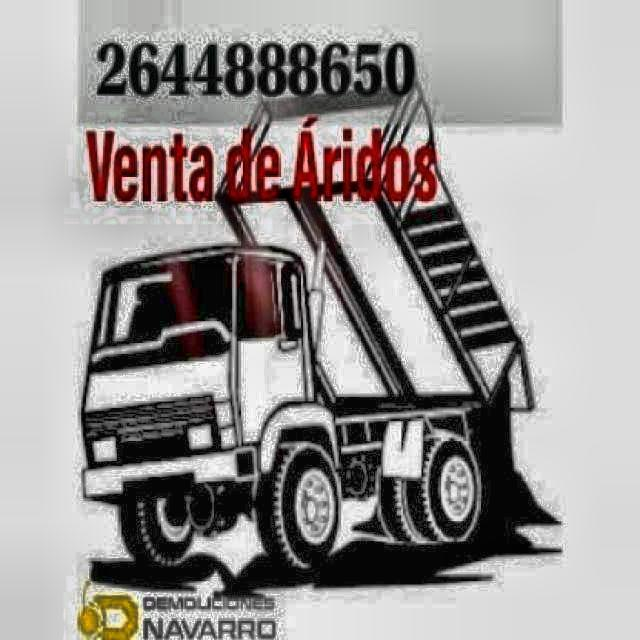dump_truck: (83, 55, 532, 584)
